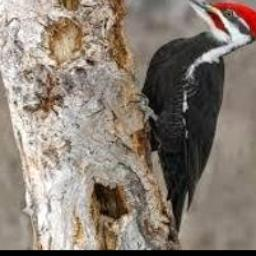Woodpecker: (140, 0, 256, 236)
